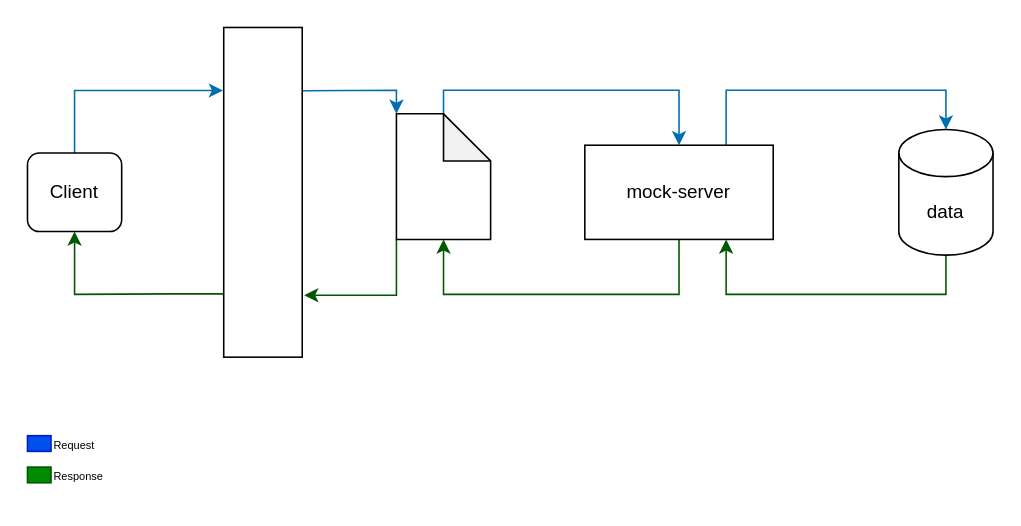
Image size: 1021x526. Some labels were removed from this diagram. The centre of each missing label's shape, as x and y in pixels:
"A P I M A N A G E R" belongs at point (262, 191).
"yaml" belongs at point (443, 175).
